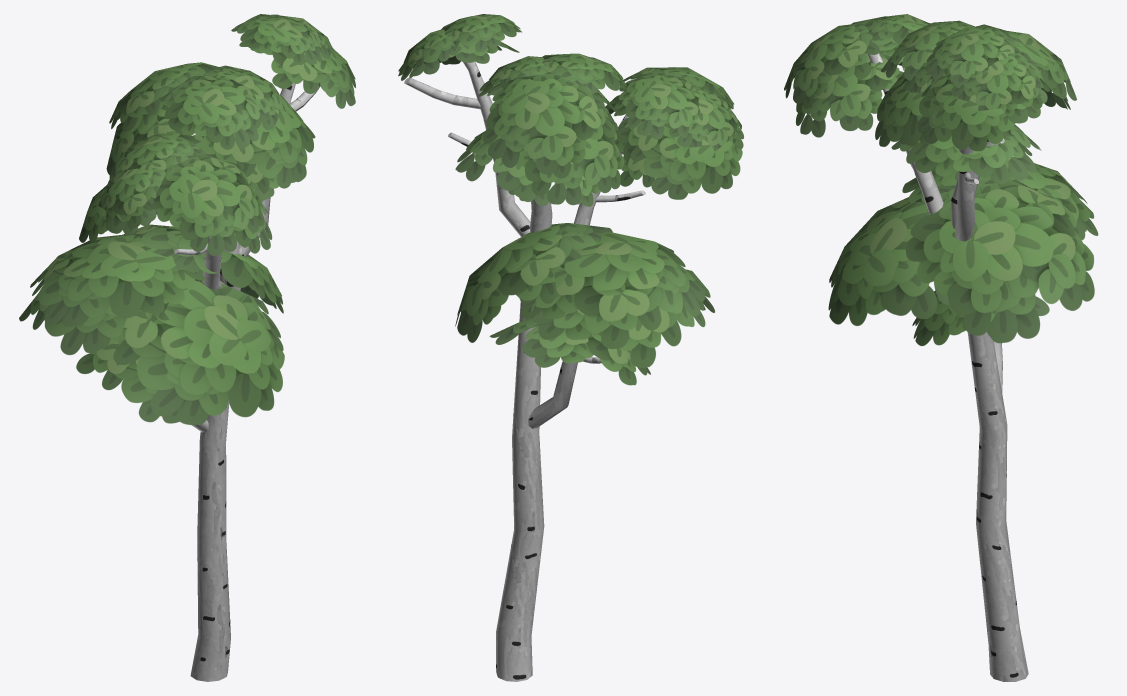
Rendered from Birch_4.glb.
3 views of the same model, side by side, from view 1: azimuth 30°, elevation 25°; view 2: azimuth 150°, elevation 25°; view 3: azimuth 270°, elevation 25° (orthographic). The views are drawn at different scales.
Visible parts, largest first — view 1: Birch_4; view 2: Birch_4; view 3: Birch_4.
Part boxes in pixels (x1=…): Birch_4: x1=19, y1=14, x2=355, y2=681; Birch_4: x1=398, y1=14, x2=743, y2=681; Birch_4: x1=784, y1=14, x2=1098, y2=681.
Size of the model in its own units: 5.17 by 9.99 by 4.5.
2 materials, 2 textured.
